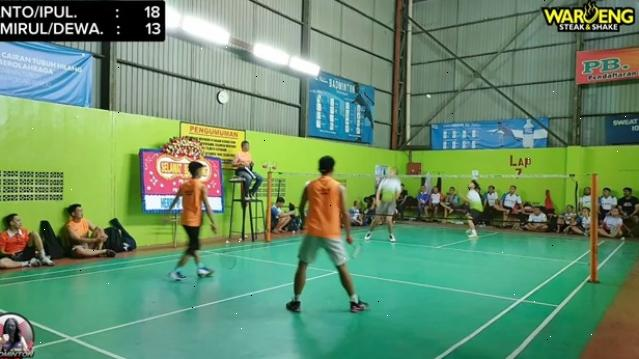Shuttlecock: (425, 90, 436, 102)
